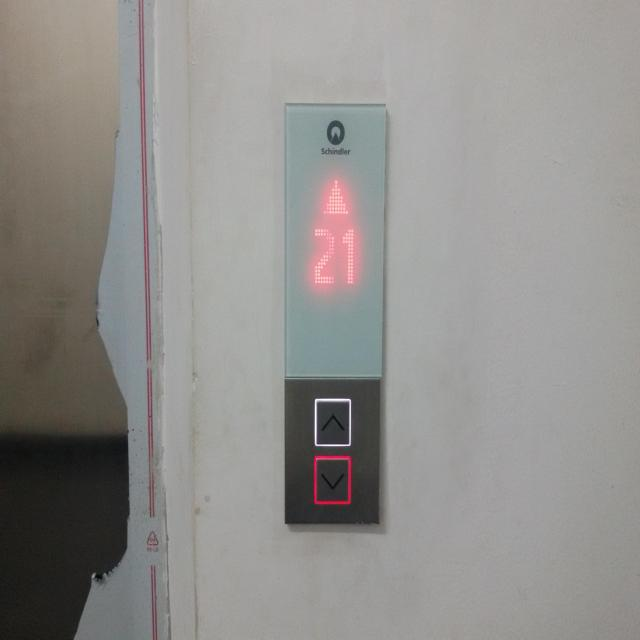down: (312, 454, 352, 506)
led: (280, 100, 390, 388)
up: (313, 397, 351, 447)
